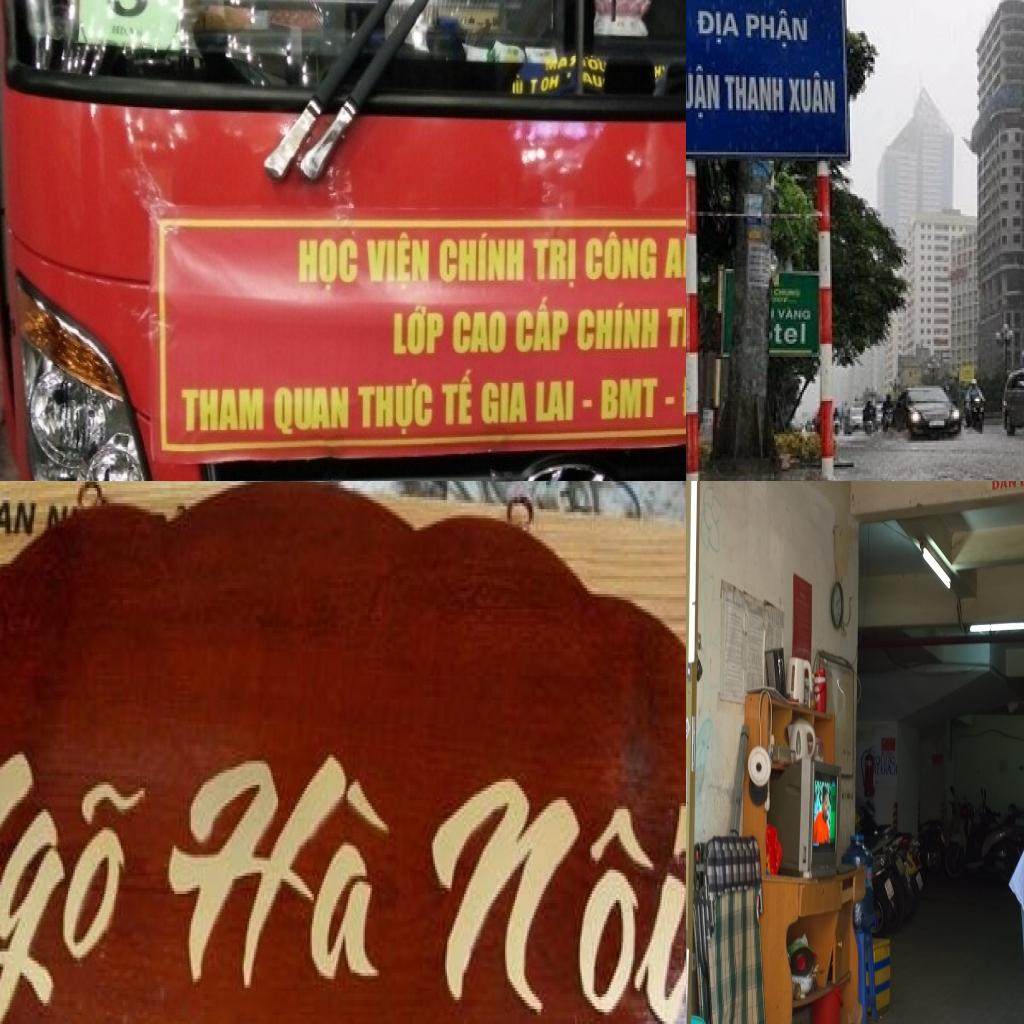text: (414, 733, 686, 1024), (152, 728, 408, 1018), (0, 733, 158, 1024), (356, 374, 438, 440), (438, 227, 528, 286), (175, 384, 268, 440), (575, 295, 662, 354), (582, 227, 660, 286), (270, 380, 353, 434), (291, 235, 363, 296), (364, 228, 434, 290), (514, 295, 571, 359), (598, 374, 662, 424), (390, 304, 447, 360), (743, 4, 812, 50), (451, 305, 508, 357), (723, 71, 787, 117), (530, 235, 580, 291), (787, 69, 840, 119), (480, 374, 530, 426), (439, 362, 478, 428), (530, 374, 578, 426), (0, 488, 40, 545), (686, 64, 723, 123), (695, 7, 744, 46), (664, 302, 686, 356), (662, 234, 686, 283), (107, 0, 154, 24), (772, 320, 810, 348), (774, 304, 814, 324), (991, 481, 1016, 491), (880, 764, 898, 776), (883, 755, 896, 765), (874, 756, 882, 765), (873, 764, 880, 774)
